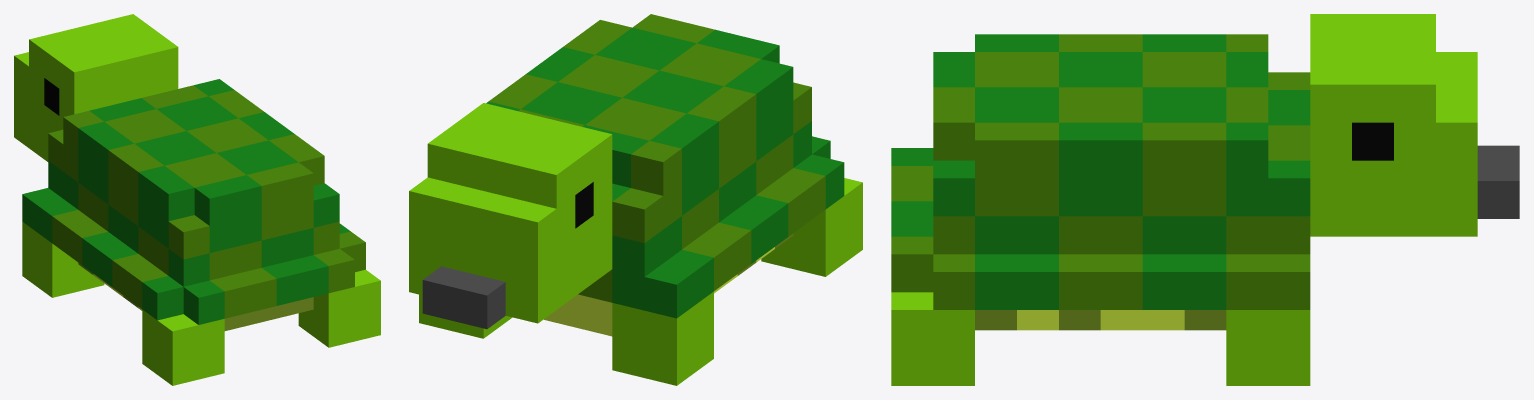
Rendered from Turtle 1.obj.
The picture shows the model from 3 angles, left to right: view 1: azimuth 30°, elevation 25°; view 2: azimuth 150°, elevation 25°; view 3: azimuth 270°, elevation 25°; orthographic projection. The views are drawn at different scales.
Size of the model in its own units: 8 by 7 by 15.
